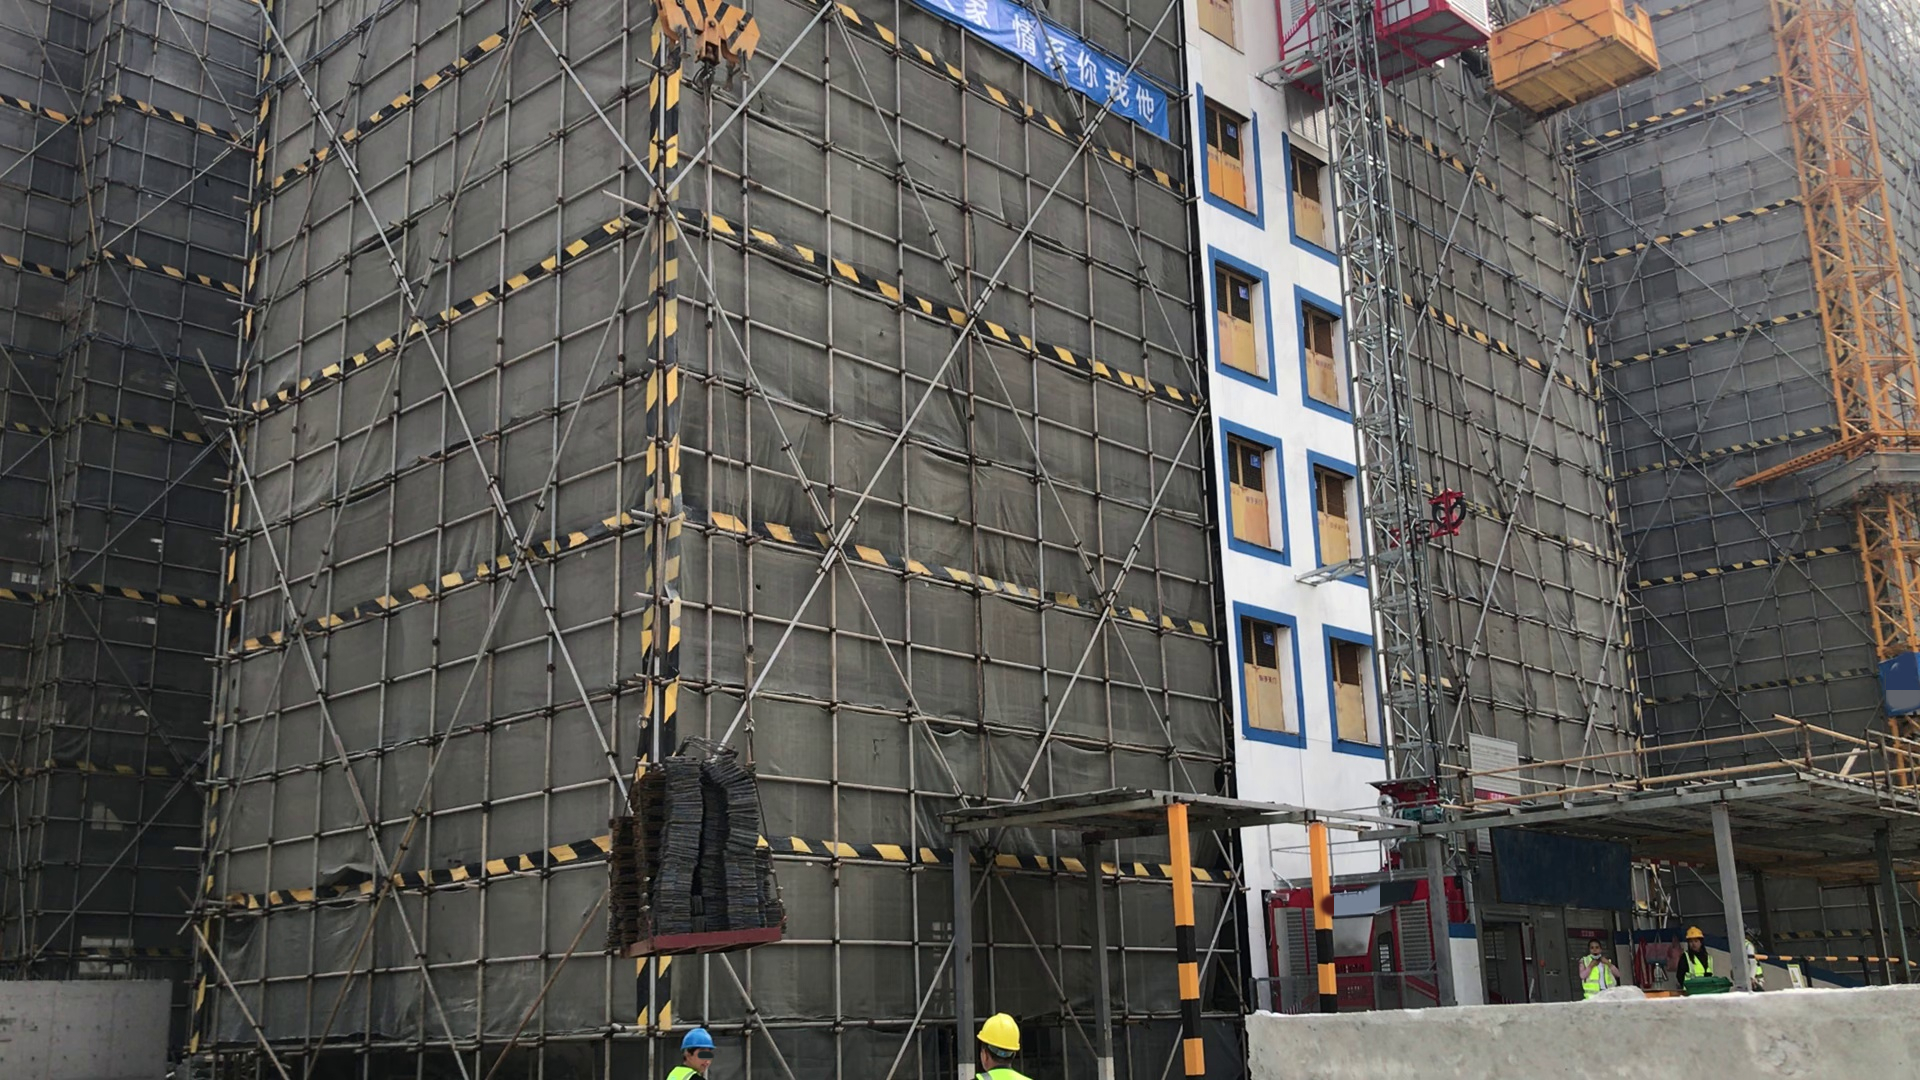helmet: (975, 1013, 1020, 1051), (678, 1026, 715, 1050), (1685, 927, 1703, 940)
hook: (655, 1, 762, 94)
person: (956, 1012, 1035, 1080), (651, 1026, 716, 1080), (1573, 939, 1619, 1000), (1678, 928, 1723, 979), (1743, 935, 1767, 989)
slogan: (910, 1, 1167, 134)
vest: (1582, 955, 1612, 996), (1684, 950, 1714, 979), (976, 1068, 1028, 1077), (661, 1066, 691, 1080)
